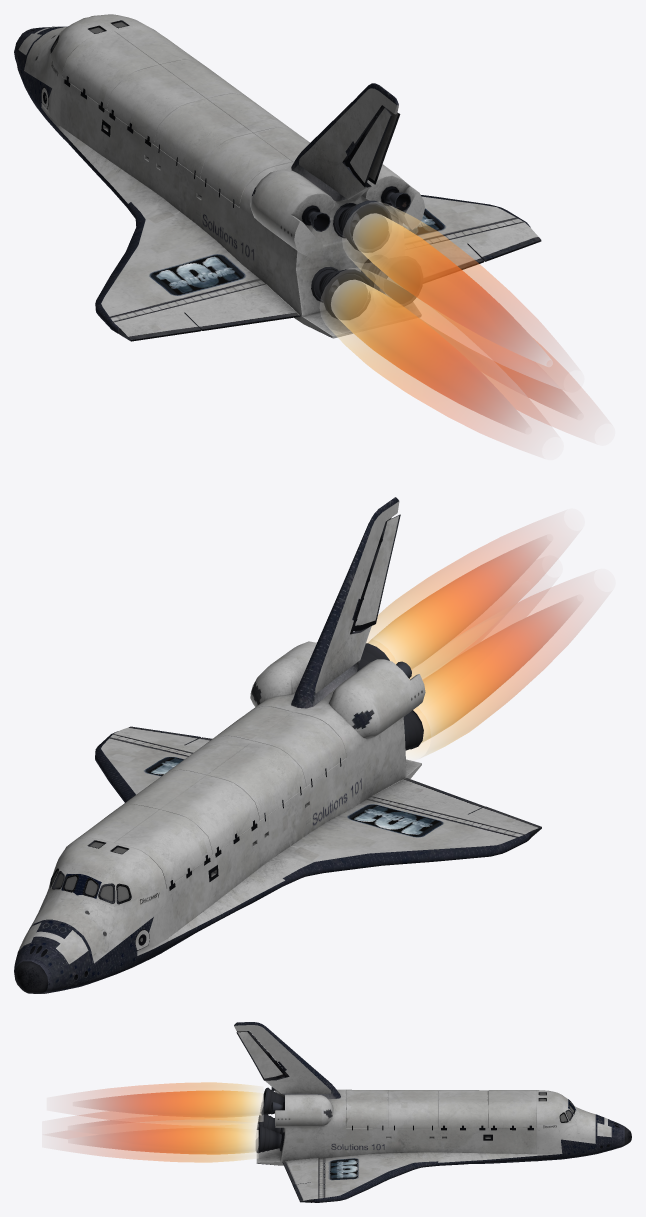
File: shuttle_solutions101_noflag.glb
3 renders of one model, top to bottom at view 1: azimuth 30°, elevation 25°; view 2: azimuth 150°, elevation 25°; view 3: azimuth 270°, elevation 25°, orthographic. The views are drawn at different scales.
Visible parts, largest first — view 1: Nave.004_9, S101_plume_0_env, S101_plume_2_env, S101_plume_0_core, Nave.001_3, S101_plume_2_core, Nave.002_5, S101_plume_1_env, S101_plume_1_core; view 2: Nave.004_9, S101_plume_0_env, S101_plume_2_env, Nave.002_5, S101_plume_0_core, S101_plume_2_core, Nave.001_3, Nave.003_7; view 3: Nave.004_9, S101_plume_2_env, S101_plume_1_env, S101_plume_2_core, S101_plume_1_core, Nave.002_5, Nave.001_3, S101_plume_0_env, S101_plume_0_core.
Part boxes in pixels (x1,y1,x2,y2): Nave.004_9: (18, 14, 540, 339); S101_plume_0_env: (320, 268, 535, 444); S101_plume_2_env: (342, 202, 555, 376); S101_plume_0_core: (331, 280, 518, 426); Nave.001_3: (17, 20, 541, 341); S101_plume_2_core: (353, 213, 539, 358); Nave.002_5: (14, 26, 530, 337); S101_plume_1_env: (374, 284, 586, 429); S101_plume_1_core: (386, 277, 569, 412); Nave.004_9: (18, 501, 541, 964); S101_plume_0_env: (406, 584, 587, 760); S101_plume_2_env: (366, 524, 556, 678); Nave.002_5: (14, 497, 531, 993); S101_plume_0_core: (413, 603, 569, 743); S101_plume_2_core: (367, 542, 538, 669); Nave.001_3: (14, 514, 541, 993); Nave.003_7: (52, 842, 142, 941); Nave.004_9: (234, 1025, 611, 1201); S101_plume_2_env: (82, 1082, 263, 1125); S101_plume_1_env: (78, 1119, 258, 1162); S101_plume_2_core: (90, 1090, 263, 1117); S101_plume_1_core: (85, 1127, 258, 1154); Nave.002_5: (234, 1022, 624, 1202); Nave.001_3: (236, 1031, 631, 1202); S101_plume_0_env: (77, 1111, 257, 1134); S101_plume_0_core: (85, 1116, 258, 1131).
Size of the model in its own units: 19.86 by 11.6 by 48.
Materials: 6 (5 with a texture image).
